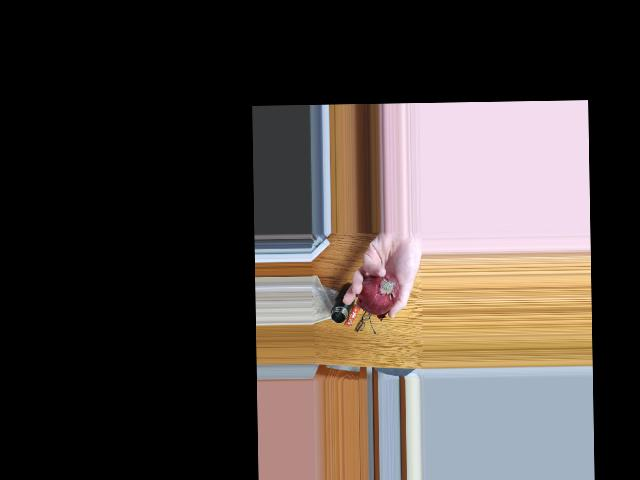onion: (359, 271, 401, 315)
